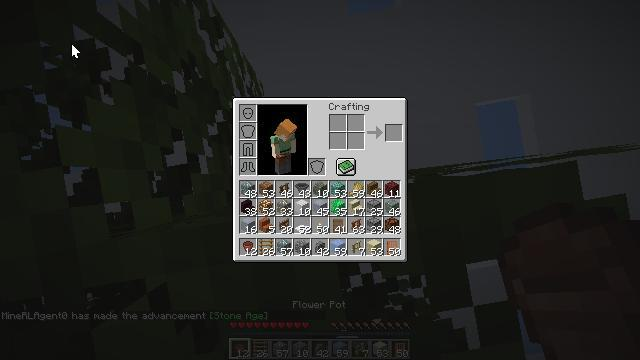cursor: (71, 43, 81, 59)
